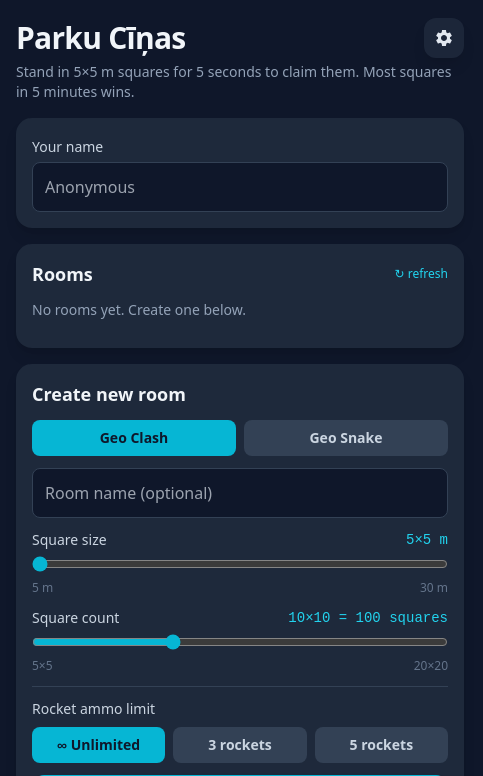
Test: settings gear › keeps map/debug controls behind the gear toggle
Check: the text "Max Imagery Age" is not shown
Click the button named "Settings". click: [444, 38]
box: [424, 18, 464, 58]
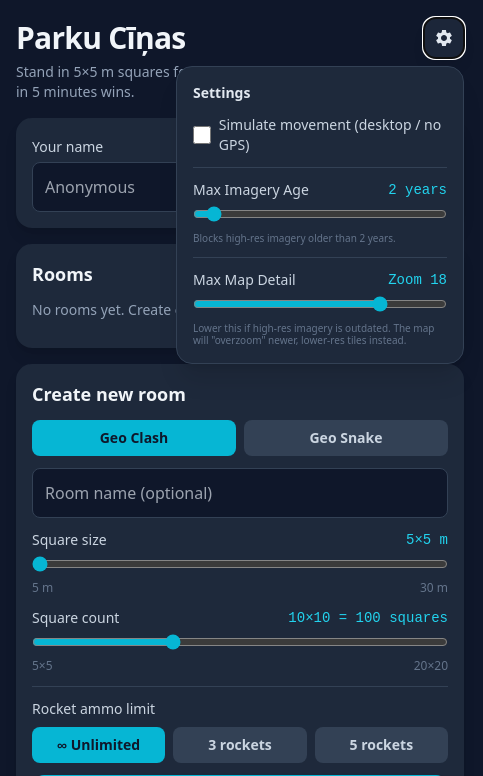
Check: the text "Max Imagery Age" is shown, box [193, 180, 309, 200]
Check: the text "Max Map Detail" is shown, box [193, 270, 296, 290]
Check: the text "Simulate movement (desktop / no GPS)" is shown, box [193, 115, 447, 155]
Click the button named "Settings". click: [444, 38]
box: [424, 18, 464, 58]
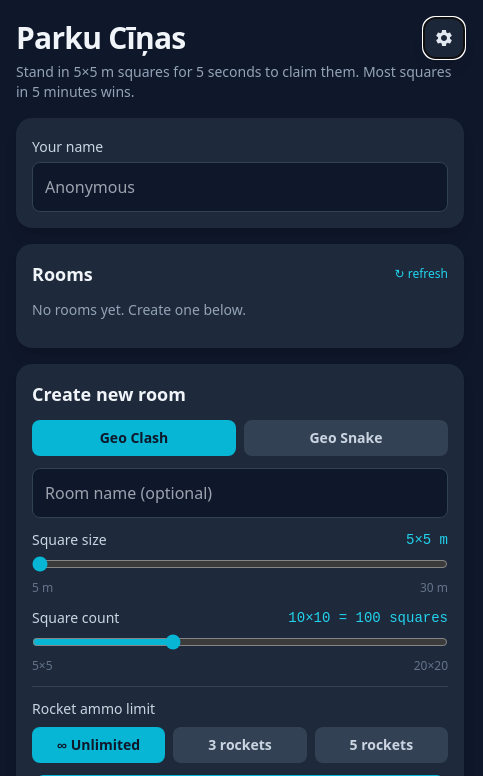
Check: the text "Max Imagery Age" is gone
